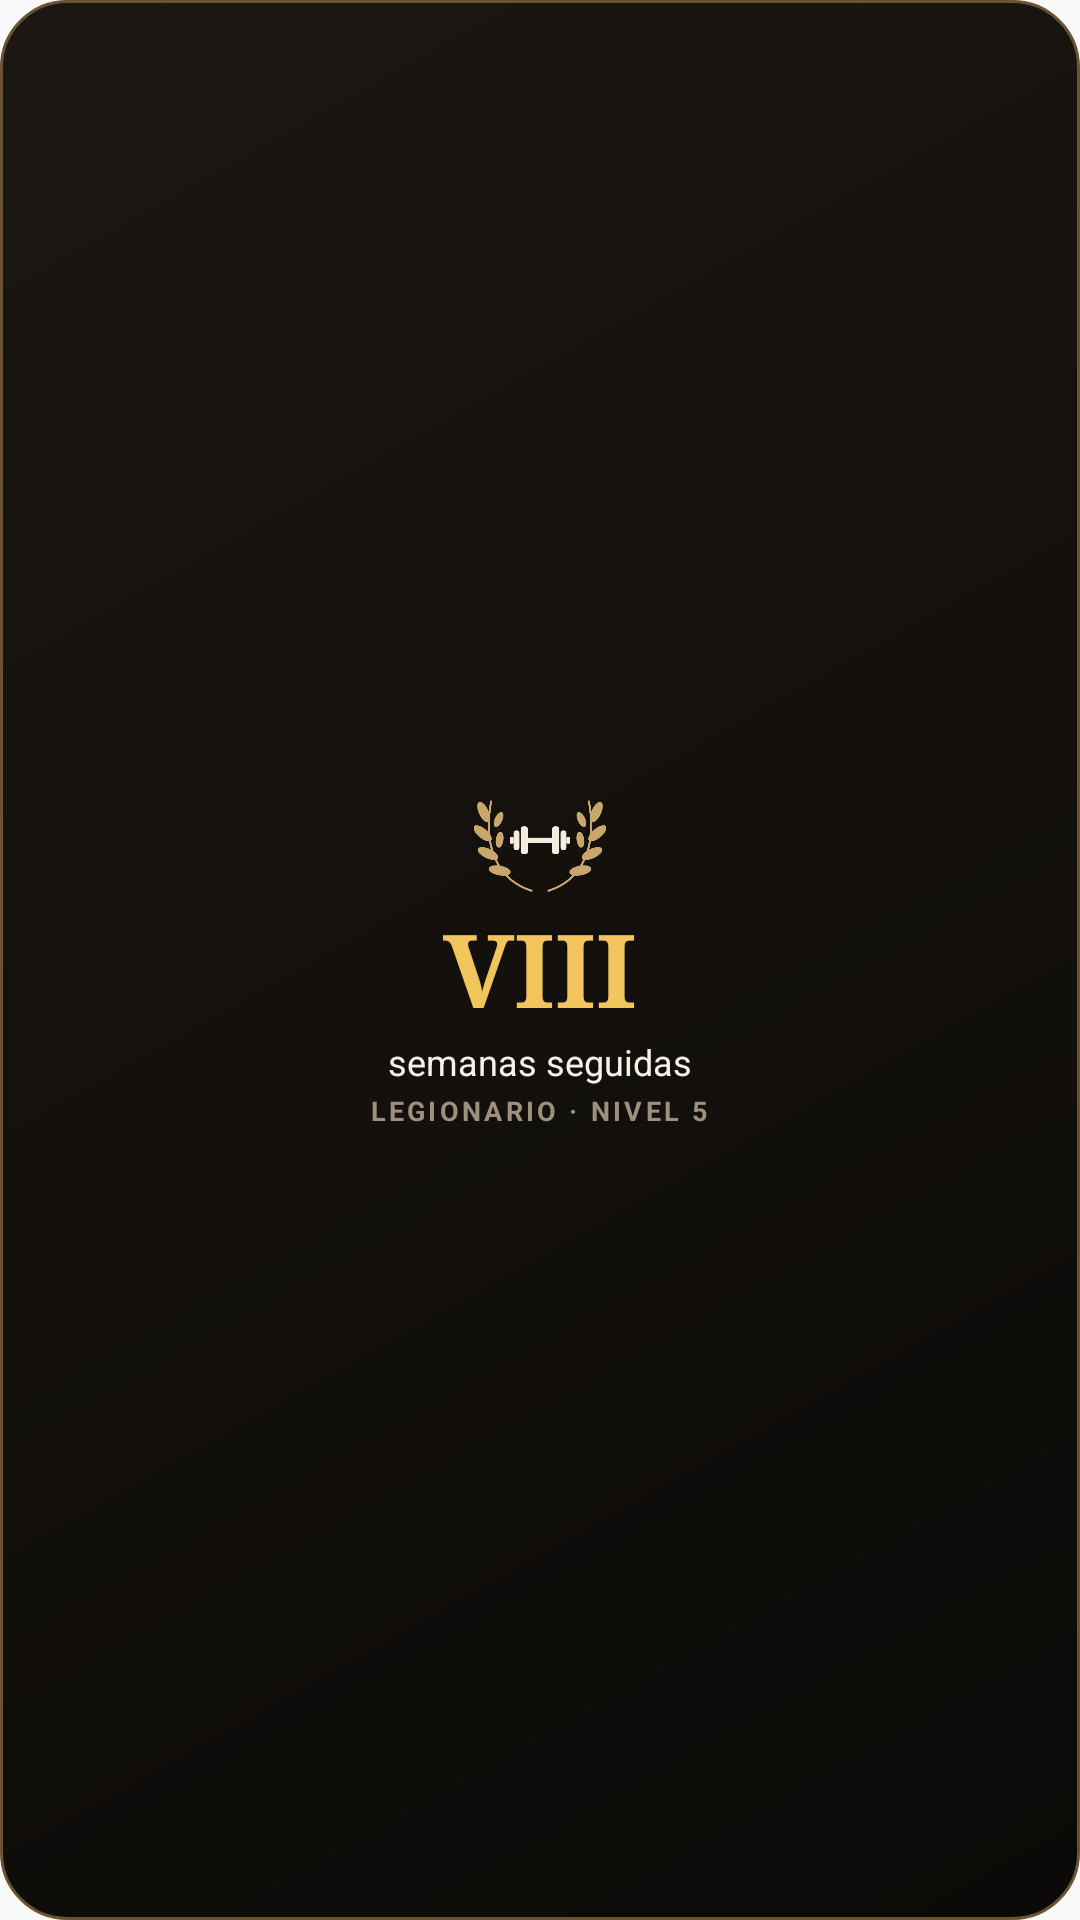

Icons on this 1080 × 1920 Android screen, each with the point to tap as [x,y]:
widget emblema: [540,846]
